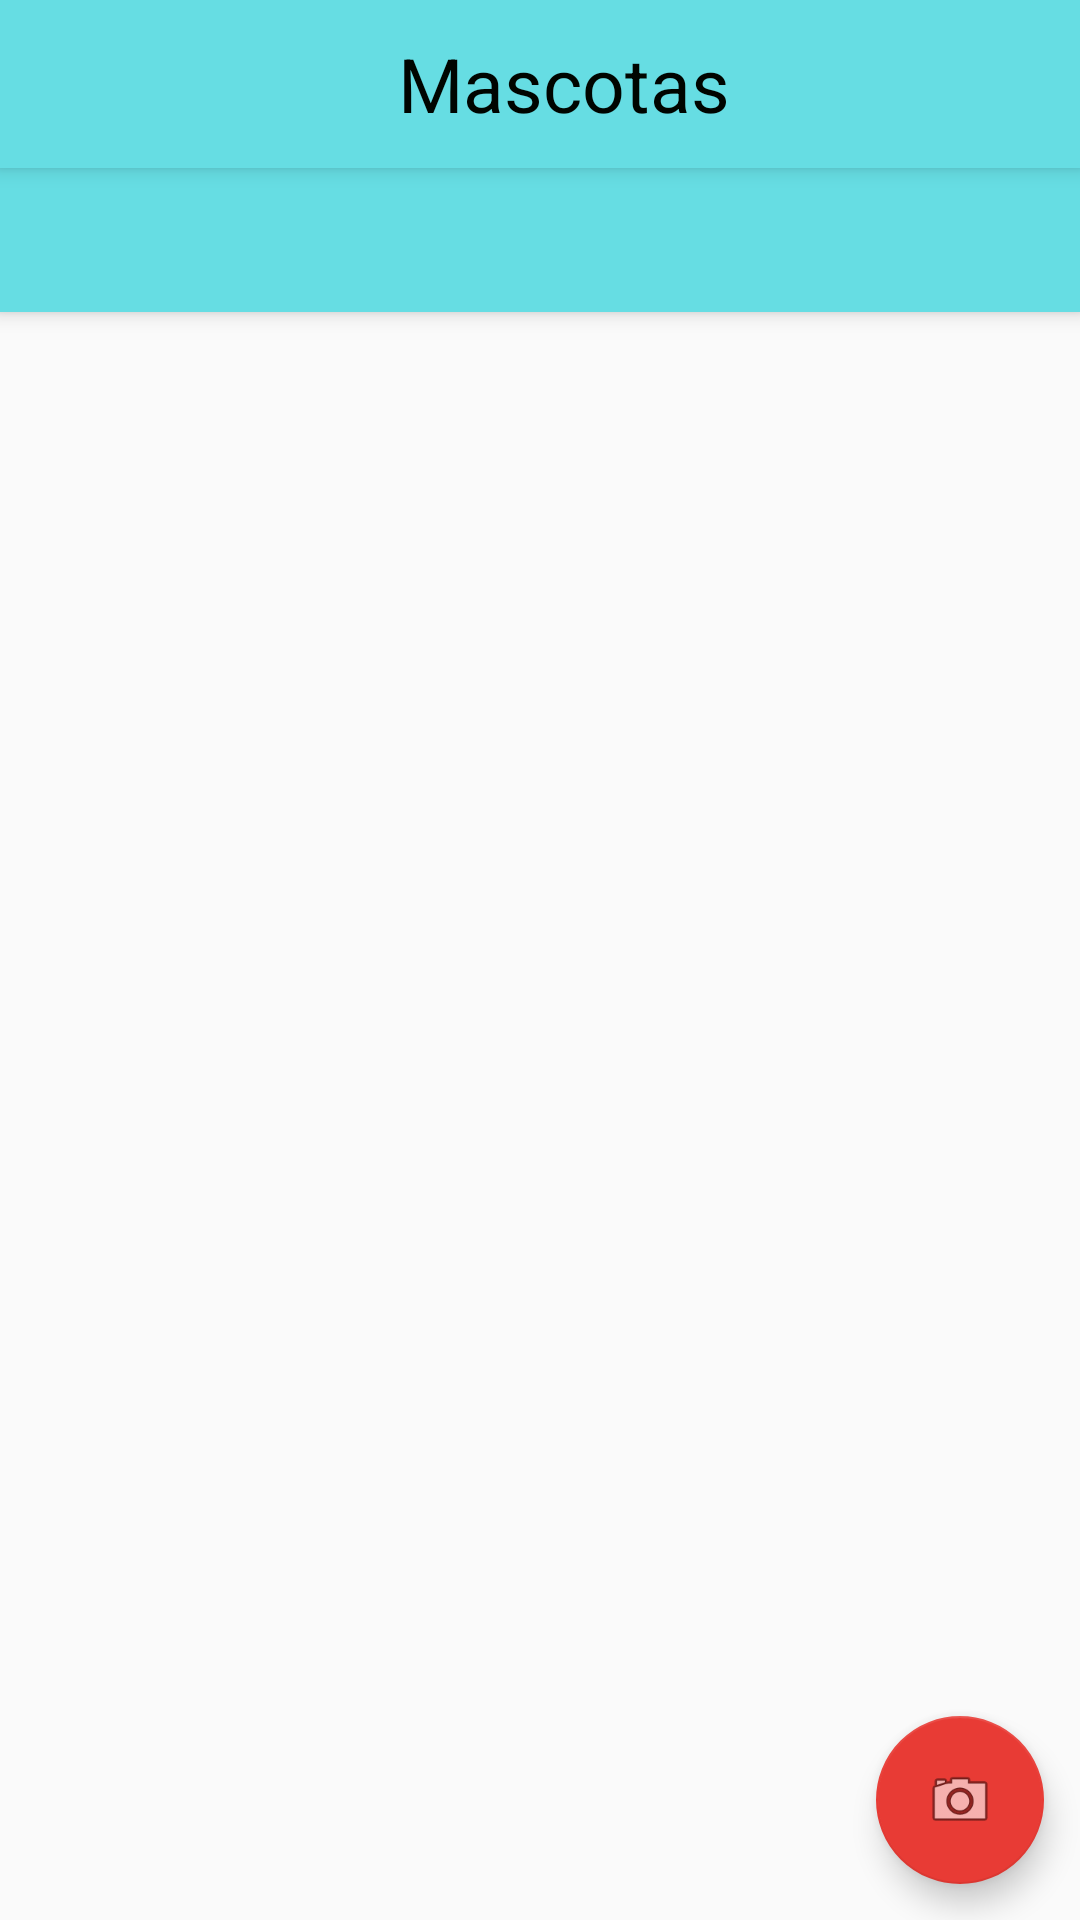

Icons on this 1080 x 1920 Android screen, each with the point to tap as point (x, y):
camera: point (960, 1800)
